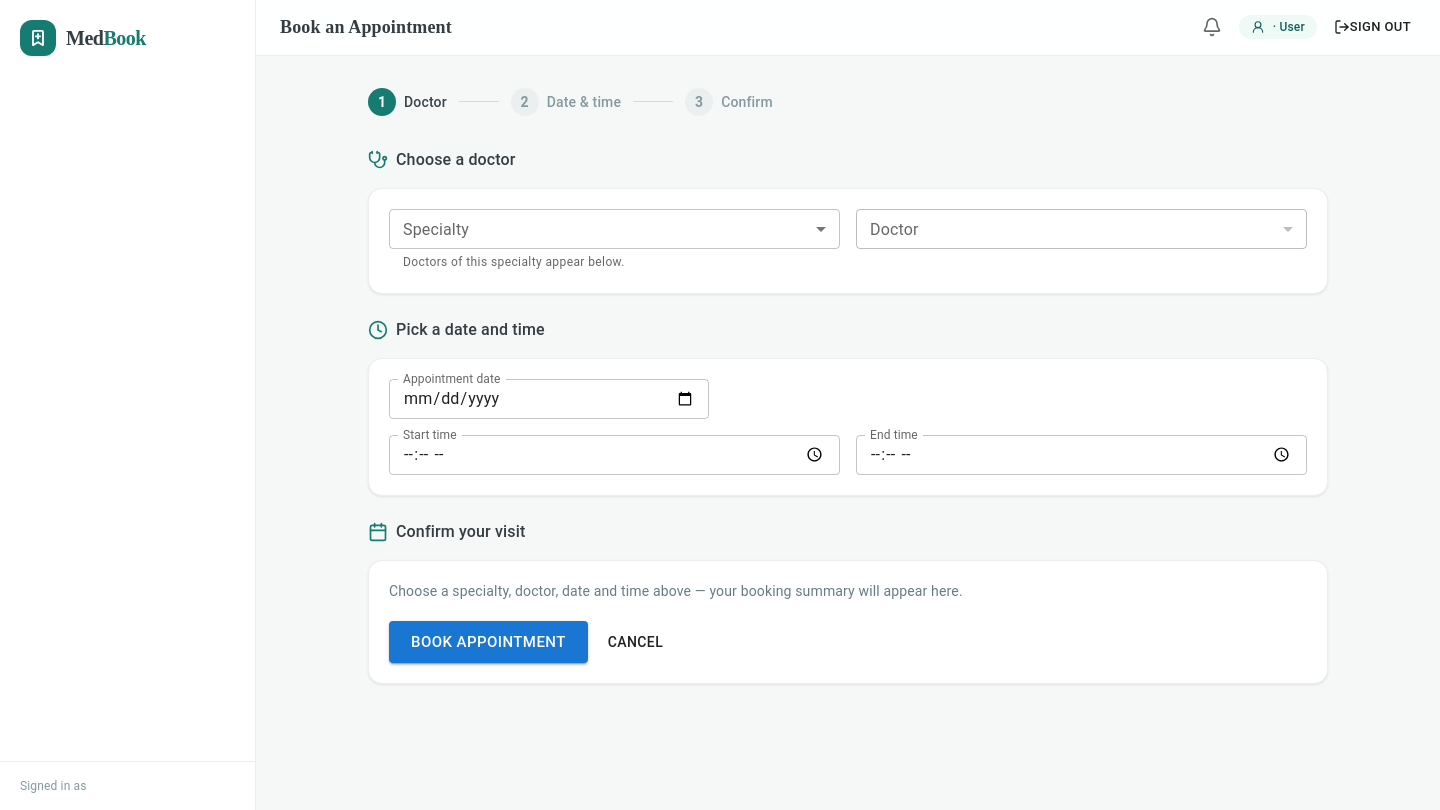
Test: BookAppointmentPage (secure patient self-booking) › does not submit when required choices are missing
The image size is (1440, 810).
Click the button "Book Appointment" at coordinates (488, 642), box [389,621,588,663]
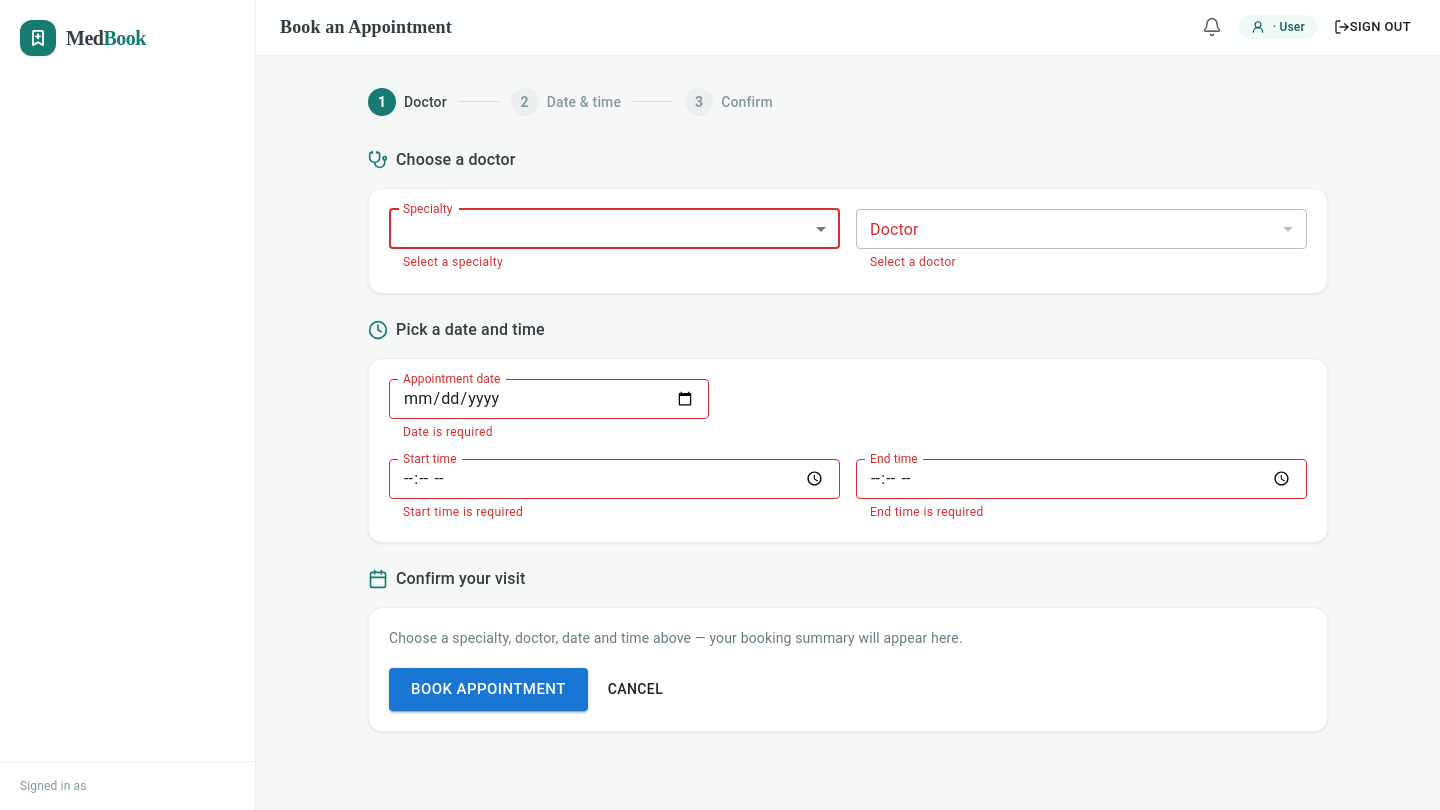
Check: the text "Select a specialty" is shown, box [403,255,503,269]
